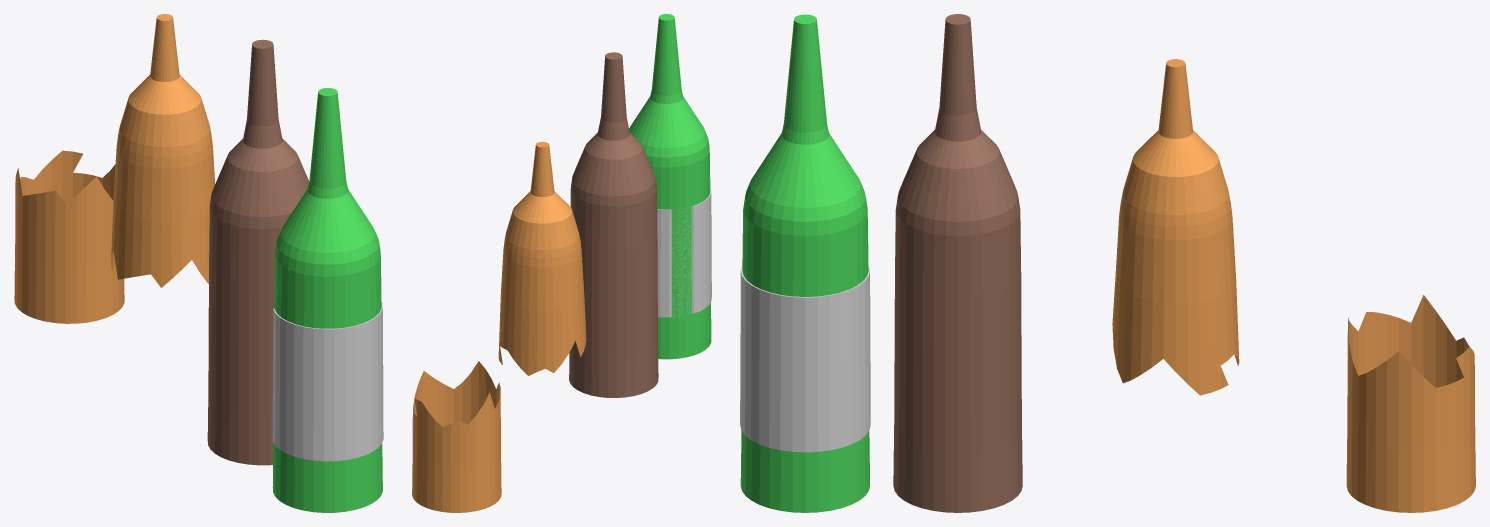
Rendered from Bottles1.fbx.
3 views of the same model, side by side, from view 1: azimuth 30°, elevation 25°; view 2: azimuth 150°, elevation 25°; view 3: azimuth 270°, elevation 25° (orthographic). The views are drawn at different scales.
Parts seen in each view (by area): view 1: Bottle2, Bottle1, Bottle3_Part2, Bottle3, Sticker; view 2: Bottle2, Bottle3_Part2, Bottle1, Bottle3, Sticker; view 3: Bottle2, Bottle1, Bottle3_Part2, Bottle3, Sticker.
Part boxes in pixels (x1,y1,x2,y2): Bottle2: (207,39,309,465); Bottle1: (272,88,382,512); Bottle3_Part2: (111,14,215,287); Bottle3: (14,150,124,323); Sticker: (272,301,383,461); Bottle2: (569,52,658,397); Bottle3_Part2: (498,141,586,375); Bottle1: (629,14,711,359); Bottle3: (412,361,501,512); Sticker: (657,188,711,317); Bottle2: (893,14,1022,512); Bottle1: (740,14,869,512); Bottle3_Part2: (1112,59,1239,395); Bottle3: (1346,295,1475,512); Sticker: (740,265,870,452).
Bounding box in the file's own units: 0.366 × 1.39 × 1.98.
